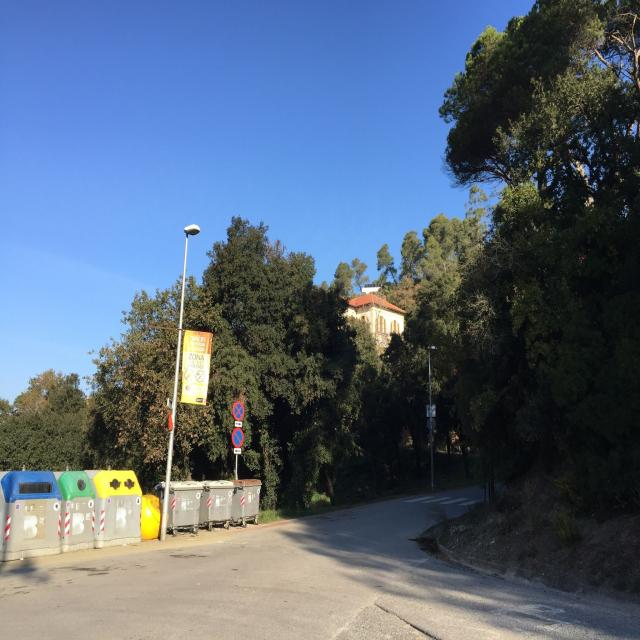forb_stopping: (231, 427, 244, 449)
forb_waiting: (232, 401, 244, 421)
